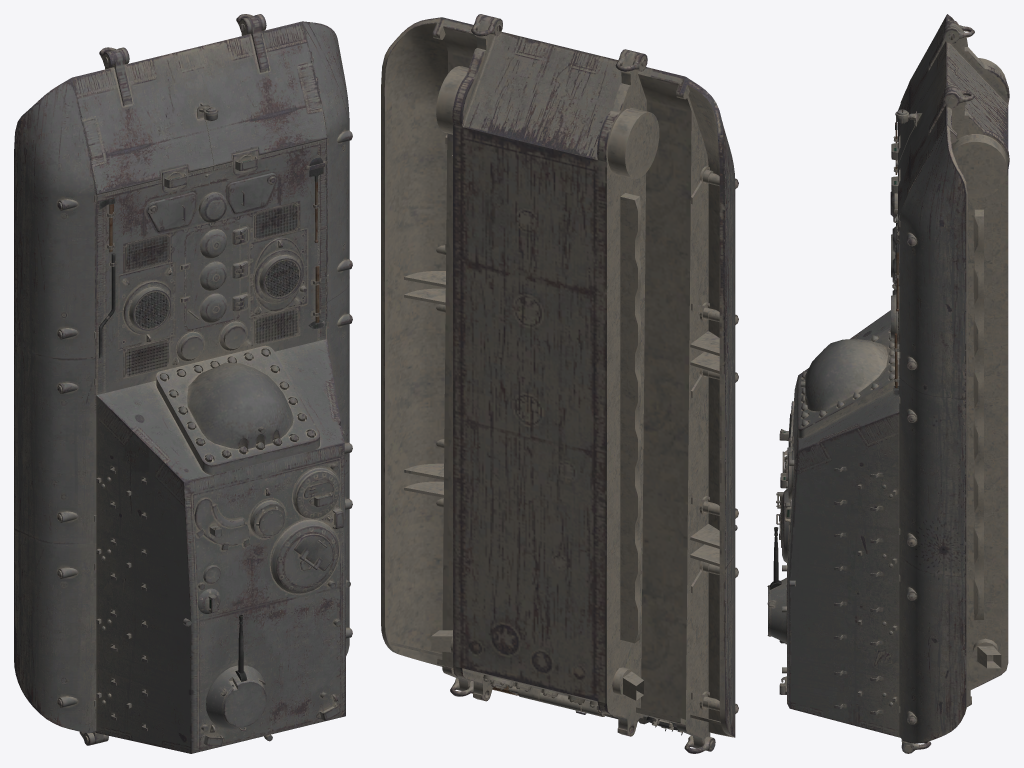
Rendered from Hull.glb.
3 views of the same model, side by side, from view 1: azimuth 30°, elevation 25°; view 2: azimuth 150°, elevation 25°; view 3: azimuth 270°, elevation 25° (orthographic). The views are drawn at different scales.
Parts seen in each view (by area): view 1: set_0_group_0; view 2: set_0_group_0; view 3: set_0_group_0.
Part boxes in pixels (<box>): set_0_group_0: <box>14,14,352,753</box>; set_0_group_0: <box>381,14,738,753</box>; set_0_group_0: <box>767,14,1009,753</box>.
Bounding box in the file's own units: 4.48 × 8.75 × 2.99.
1 material, 1 textured.
